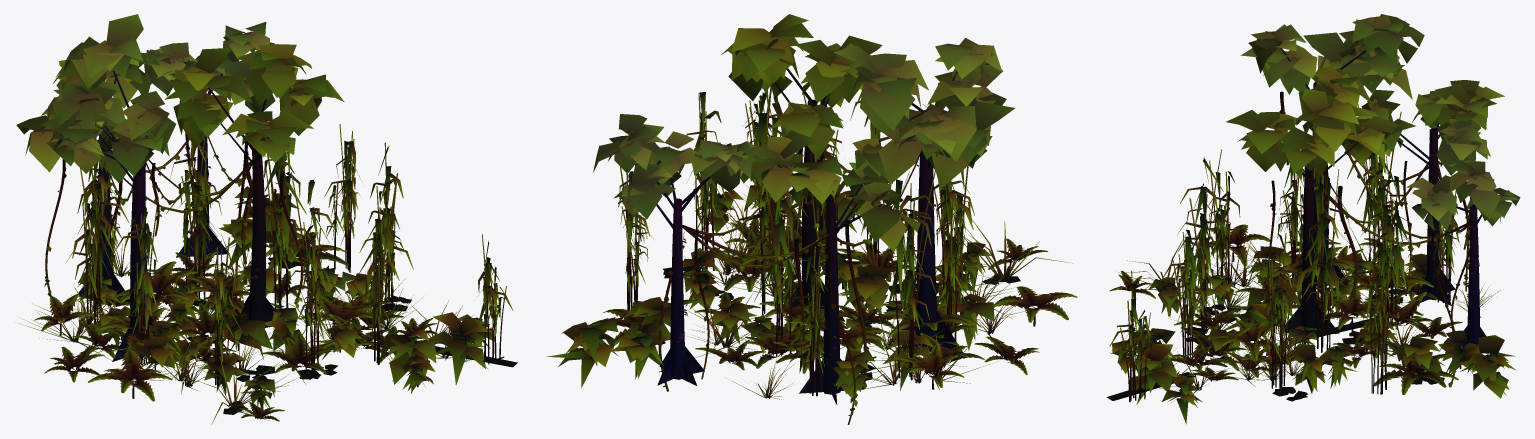
The model's file is patch_tangle.glb.
The picture shows the model from 3 angles, left to right: view 1: azimuth 30°, elevation 25°; view 2: azimuth 150°, elevation 25°; view 3: azimuth 270°, elevation 25°; orthographic projection. The views are drawn at different scales.
Parts seen in each view (by area): view 1: patch_tangle; view 2: patch_tangle; view 3: patch_tangle.
Part boxes in pixels (x1,y1,x2,y2): patch_tangle: (16, 14, 517, 424); patch_tangle: (546, 14, 1077, 424); patch_tangle: (1106, 14, 1520, 424).
Bounding box in the file's own units: 16.36 × 13.44 × 16.81.
1 material, 1 textured.
